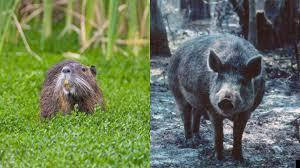wildboar: (165, 31, 270, 163), (38, 57, 108, 122)
